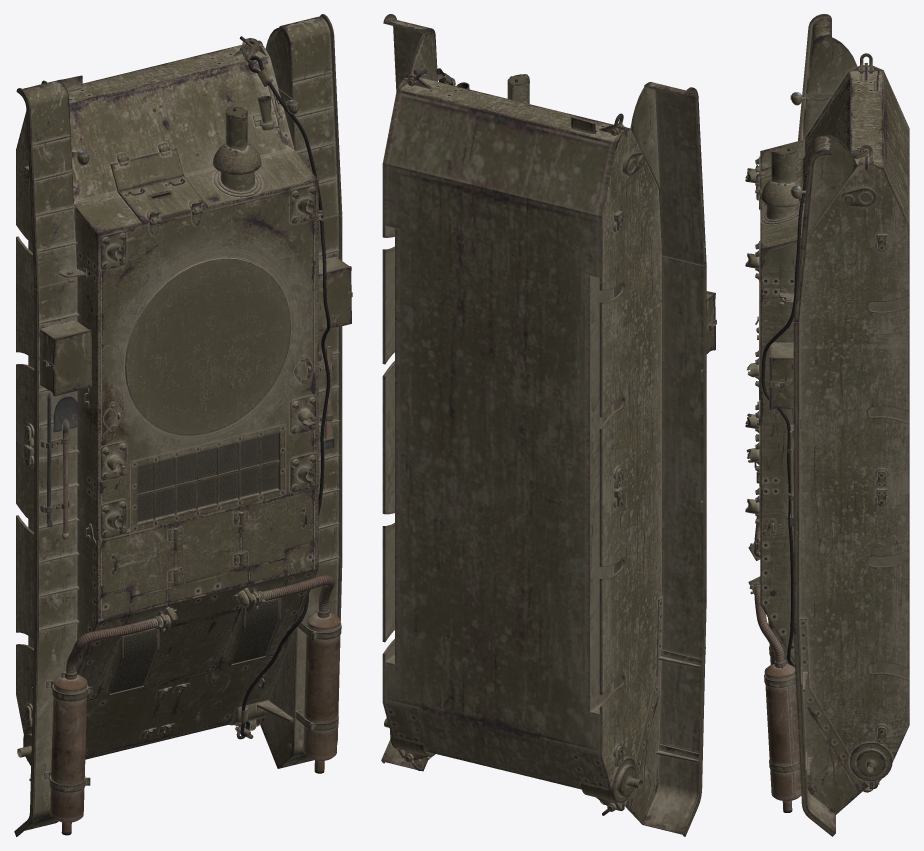
The model's file is Hull.glb.
The picture shows the model from 3 angles, left to right: view 1: azimuth 30°, elevation 25°; view 2: azimuth 150°, elevation 25°; view 3: azimuth 270°, elevation 25°; orthographic projection. The views are drawn at different scales.
Parts seen in each view (by area): view 1: set_0_group_0; view 2: set_0_group_0; view 3: set_0_group_0.
Part boxes in pixels (x1,y1,x2,y2): set_0_group_0: (14, 14, 352, 836); set_0_group_0: (381, 14, 716, 836); set_0_group_0: (745, 14, 909, 836).
Bounding box in the file's own units: 2.44 × 5.74 × 1.24.
1 material, 1 textured.
